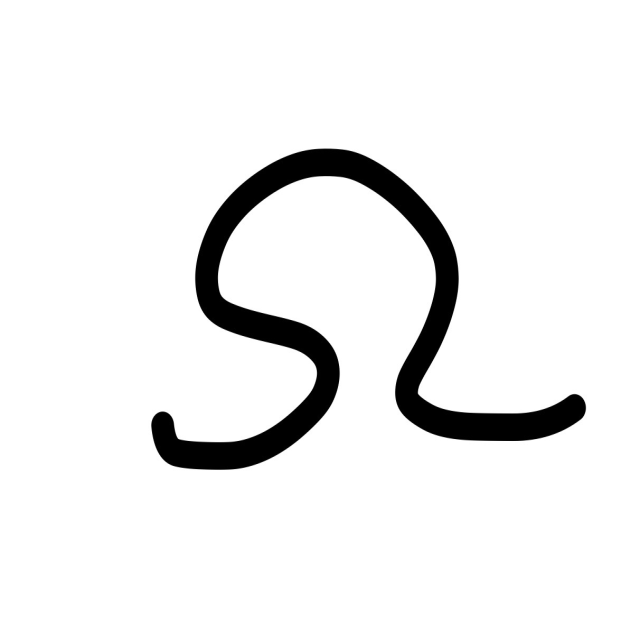ohms: (89, 79, 623, 543)
